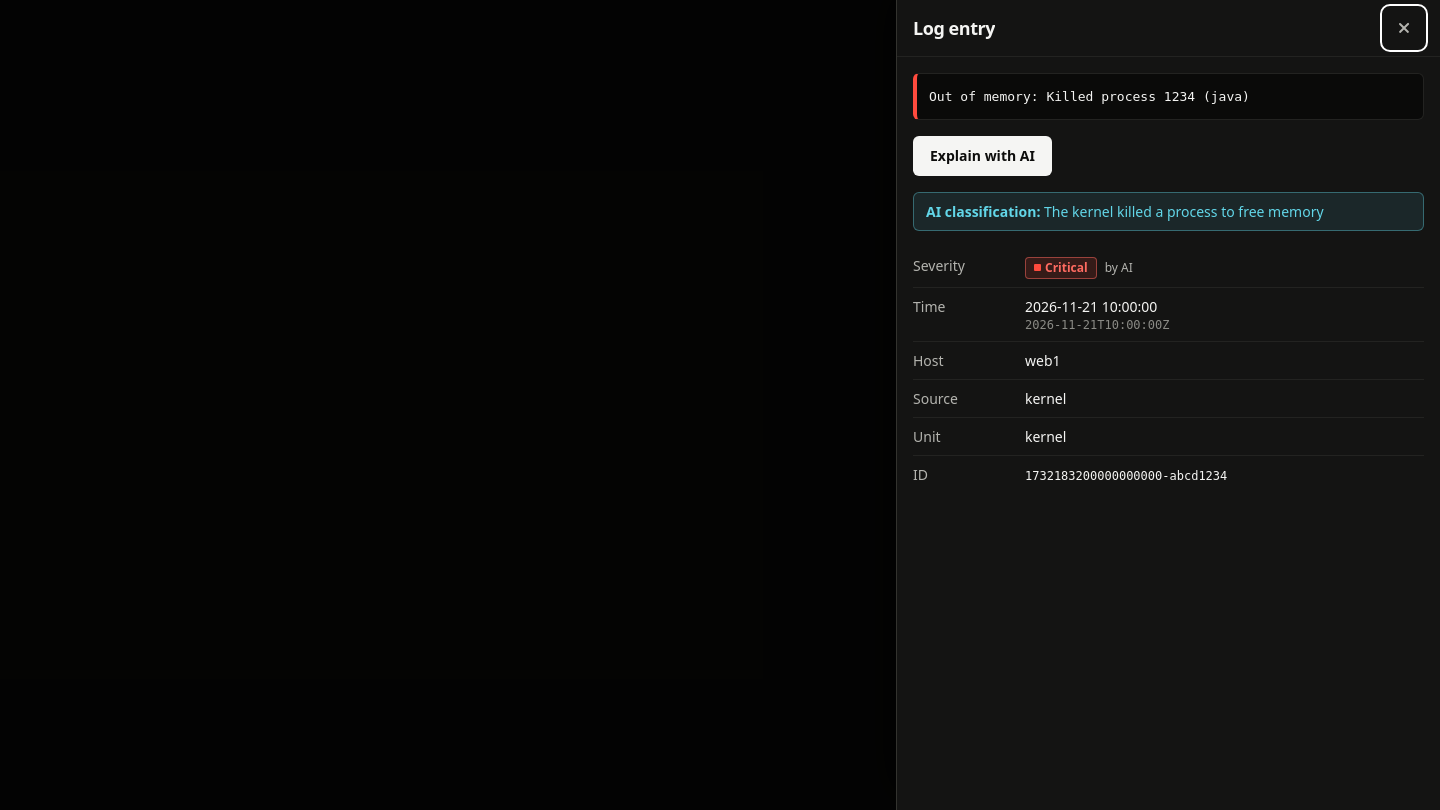
Test case: LogDetail › shows the explanation after one tap on Explain
Click the button "Explain with AI": (982, 156) [913,136,1052,176]
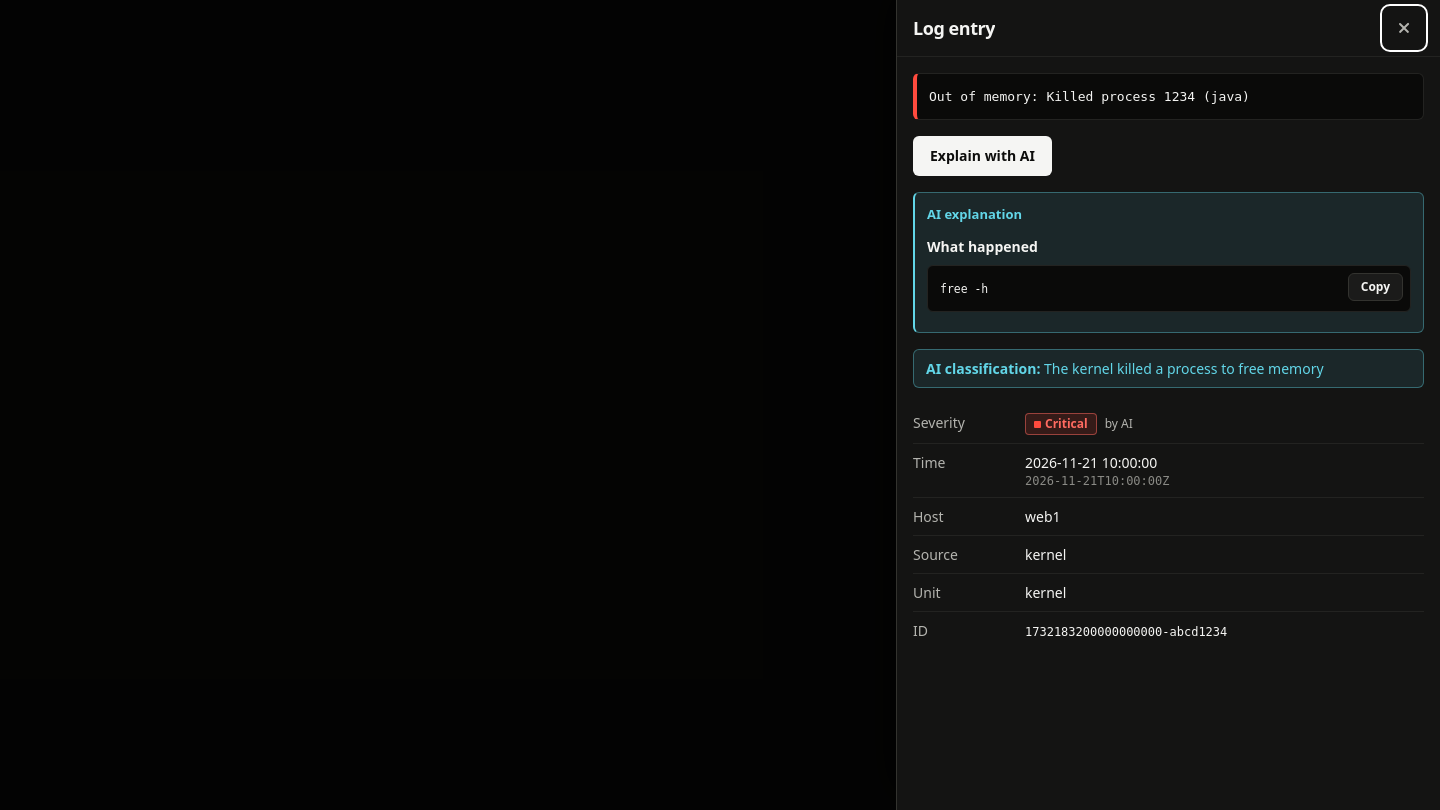
Result: the heading "What happened" is shown at [927,237,1038,256]
Result: the text "free -h" is shown at [940,282,988,296]
Result: the button "Copy" is shown at [1348,273,1403,301]
